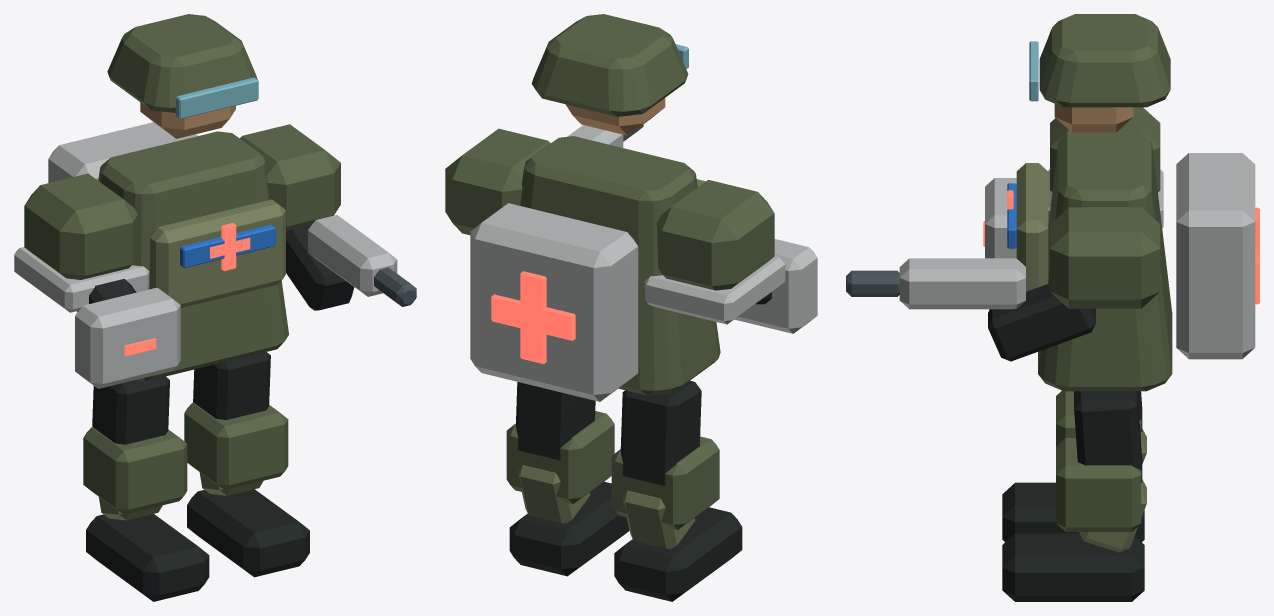
Rendered from h_medic.glb.
The picture shows the model from 3 angles, left to right: view 1: azimuth 30°, elevation 25°; view 2: azimuth 150°, elevation 25°; view 3: azimuth 270°, elevation 25°; orthographic projection. The views are drawn at different scales.
Visible parts, largest first — view 1: Body armor, Leg armor, Leg armor.001; view 2: Body armor, Leg armor, Leg armor.001; view 3: Body armor, Leg armor.001, Leg armor.
Boxes of the visible parts, x1=… form: Body armor: x1=14, y1=14, x2=416, y2=388; Leg armor: x1=83, y1=376, x2=209, y2=601; Leg armor.001: x1=184, y1=352, x2=309, y2=577; Body armor: x1=445, y1=14, x2=817, y2=401; Leg armor: x1=611, y1=380, x2=742, y2=601; Leg armor.001: x1=506, y1=382, x2=629, y2=576; Body armor: x1=846, y1=14, x2=1259, y2=391; Leg armor.001: x1=1002, y1=391, x2=1146, y2=601; Leg armor: x1=1002, y1=390, x2=1146, y2=542.
Bounding box in the file's own units: 1.08 × 1.86 × 1.31.
